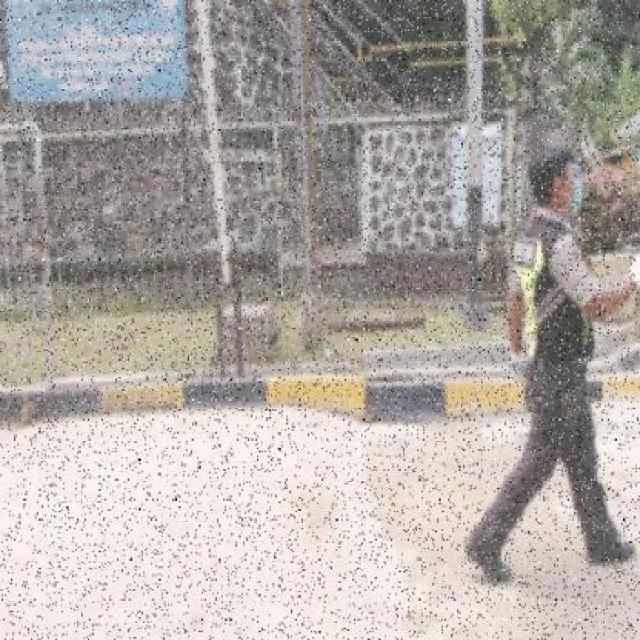Boots: (459, 528, 516, 587), (583, 535, 637, 567)
Gloves: (504, 344, 530, 385), (626, 250, 640, 292)
Mask: (570, 181, 582, 213)
